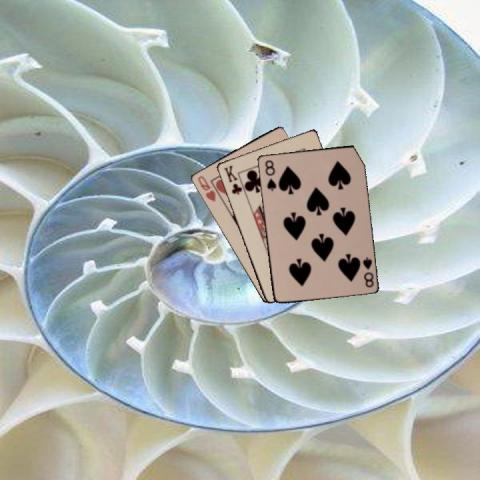8s: (359, 254, 375, 289), (262, 157, 277, 192)
Kc: (221, 163, 243, 196)
Qh: (194, 173, 216, 203)
